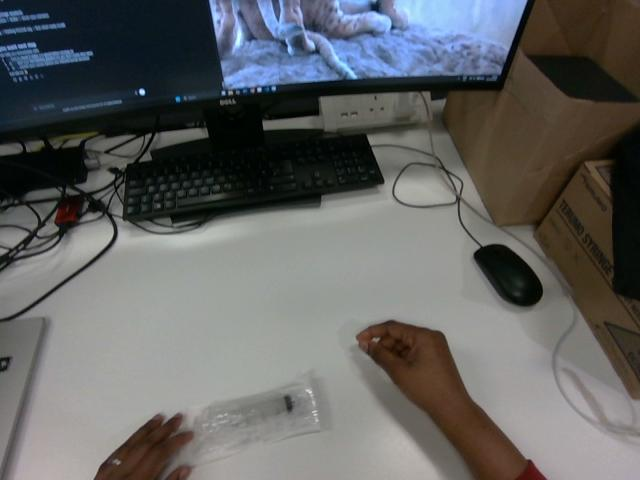syringe: (183, 374, 320, 465)
